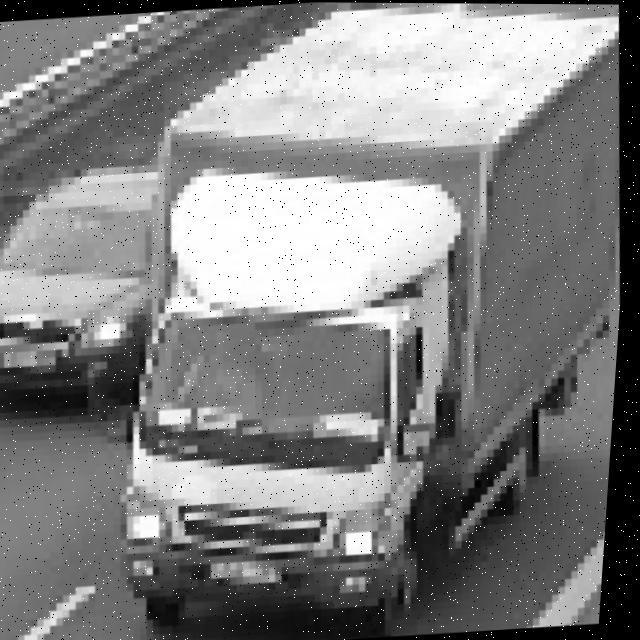truck: (90, 144, 525, 640)
